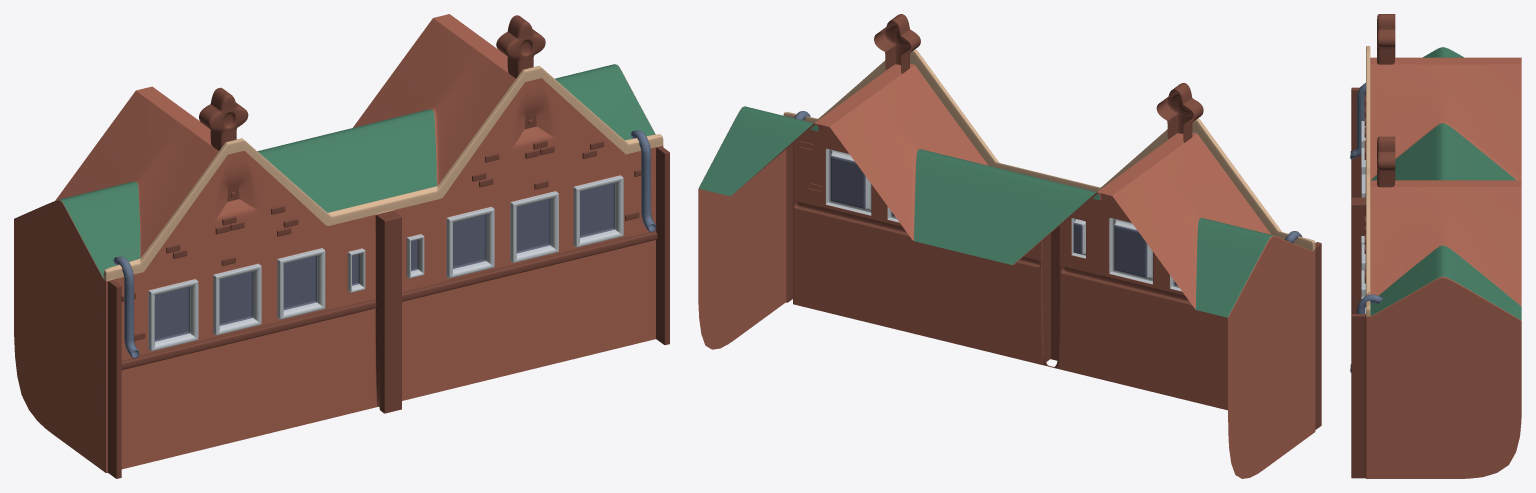
The model's file is Building-KingsRoad-02.fbx.
3 renders of one model, left to right at view 1: azimuth 30°, elevation 25°; view 2: azimuth 150°, elevation 25°; view 3: azimuth 270°, elevation 25°, orthographic. The views are drawn at different scales.
Visible parts, largest first — view 1: Building02, Cross, Brick.001, Cylinder; view 2: Building02, Cross; view 3: Building02, Cross, Cylinder, Brick.001.
Boxes of the visible parts, box(x1,y1,x2,y2) form: Building02: box(14, 14, 669, 478); Cross: box(199, 15, 545, 150); Brick.001: box(121, 140, 641, 340); Cylinder: box(113, 130, 656, 358); Building02: box(698, 49, 1321, 478); Cross: box(874, 14, 1203, 142); Building02: box(1351, 46, 1521, 478); Cross: box(1377, 14, 1395, 187); Cylinder: box(1350, 82, 1382, 372); Brick.001: box(1364, 95, 1365, 283).
Bounding box in the file's own units: 2523 × 1475 × 794.
